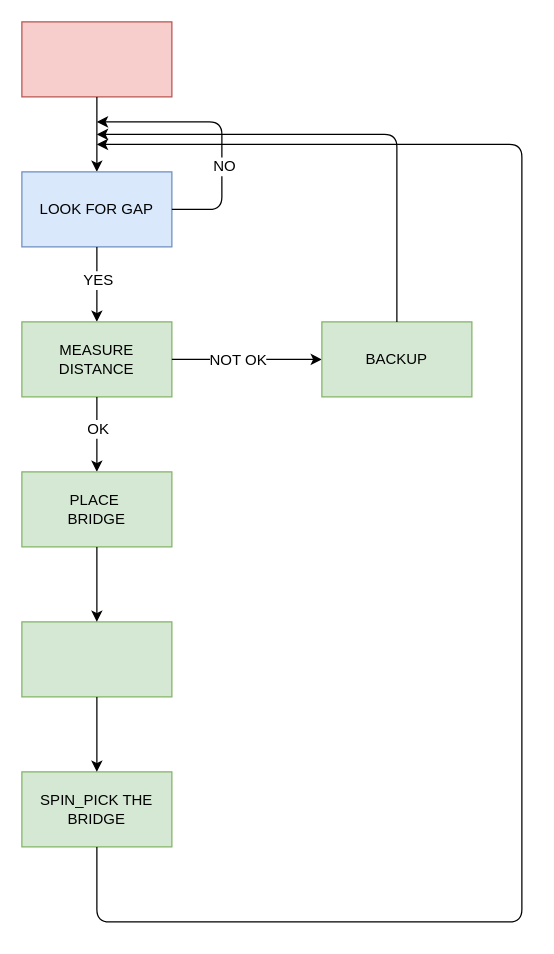
Some shapes in this 554 by 954 pixel diagram are drawn without their labels. The shapes that lost their labels are listed below. From the top down, each one's centre as x and y in pixels, then its label:
the point at 96,59: START
the point at 96,659: DRIVE OVER
